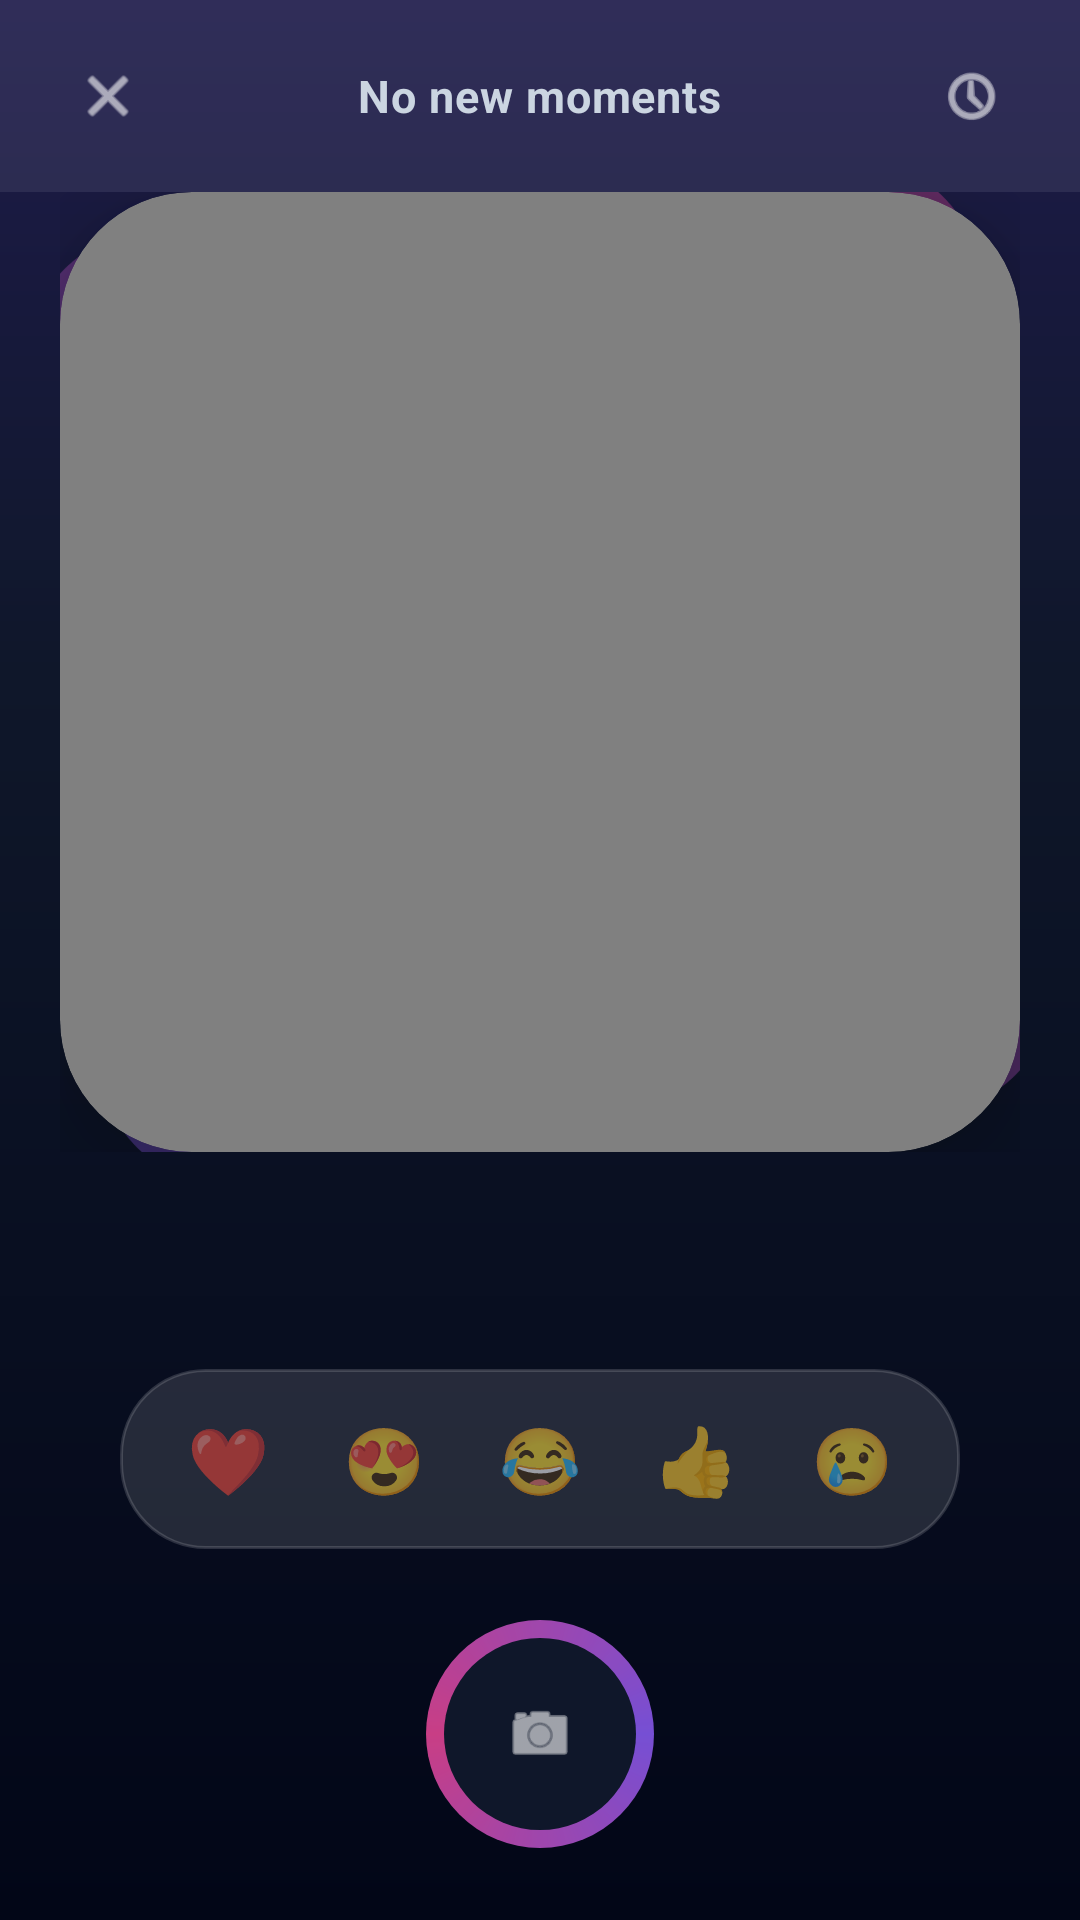

Screen size 1080px×1920px. Icon name, then its center in pixels as (x,y):
camera: (540,1734)
close clear cancel: (108,96)
recent history: (972,96)
